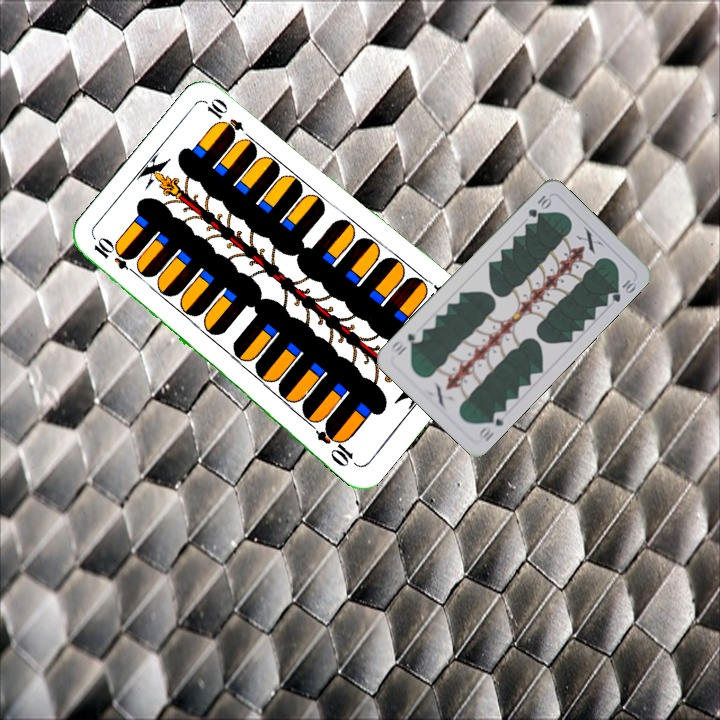E10: (89, 234, 142, 279)
G10: (474, 407, 509, 445), (524, 191, 554, 220)
